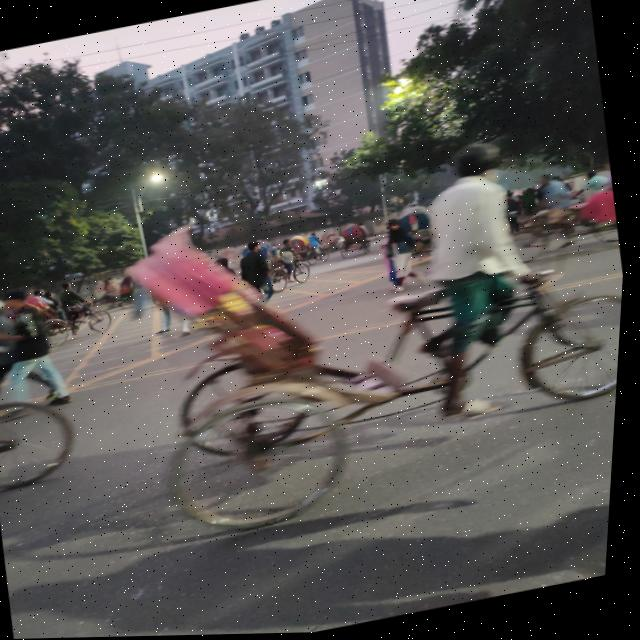rikshaw: (99, 156, 632, 524)
